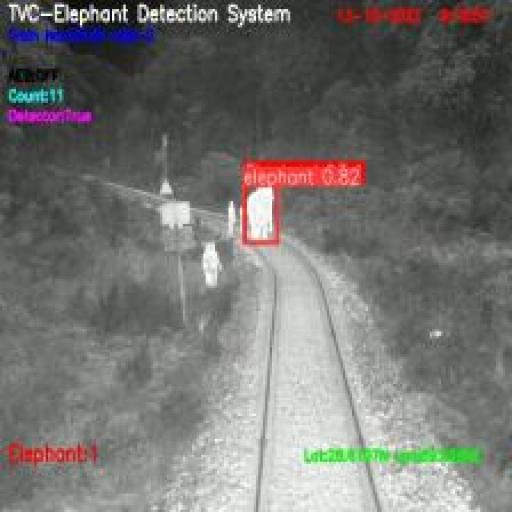Elephant: (244, 185, 279, 244)
